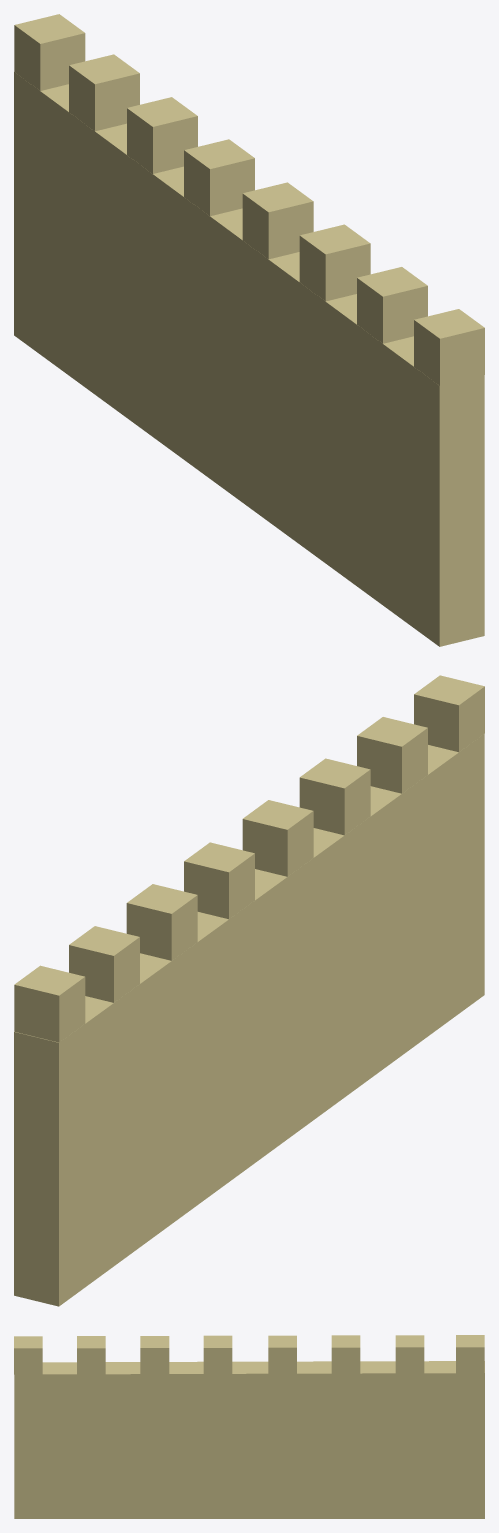
The model's file is wall.fbx.
The picture shows the model from 3 angles, top to bottom: view 1: azimuth 30°, elevation 25°; view 2: azimuth 150°, elevation 25°; view 3: azimuth 270°, elevation 25°; orthographic projection. The views are drawn at different scales.
Visible parts, largest first — view 1: polySurface2; view 2: polySurface2; view 3: polySurface2.
Boxes of the visible parts, x1,y1,x2,y2 form: polySurface2: (14, 14, 484, 646); polySurface2: (14, 675, 484, 1306); polySurface2: (14, 1335, 484, 1518).
Size of the model in its own units: 1 by 6.6 by 16.39.
